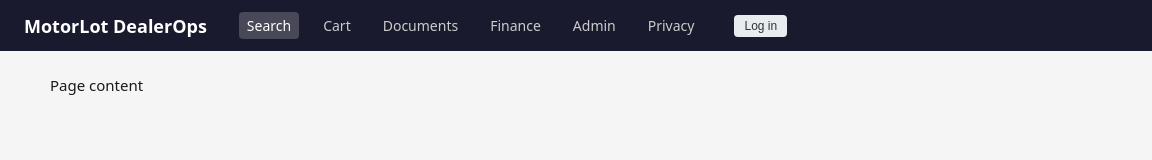
Test: Layout — unauthenticated state › "Cancel" button hides the login form
Click the button "Log in": (761, 26) left=734, top=15, right=787, bottom=37
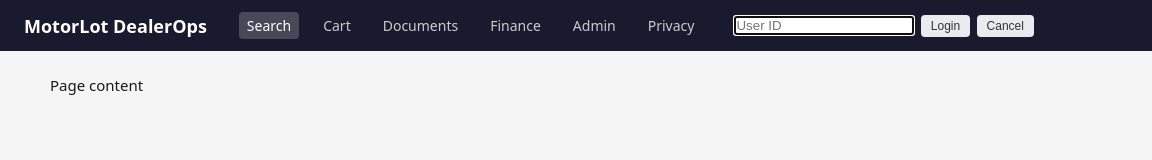
Click the button "Cancel": (1005, 26) left=977, top=14, right=1034, bottom=36
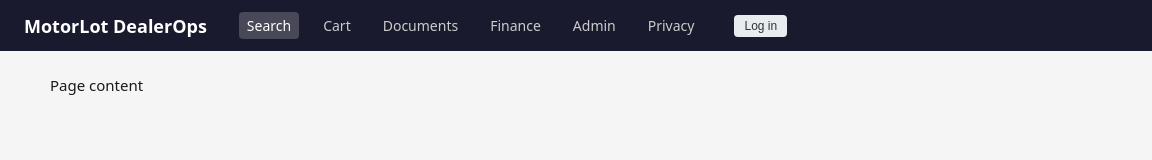
Check: the field with placeholder "user id" is not shown
Check: the button "Log in" is shown, box left=734, top=15, right=787, bottom=37
